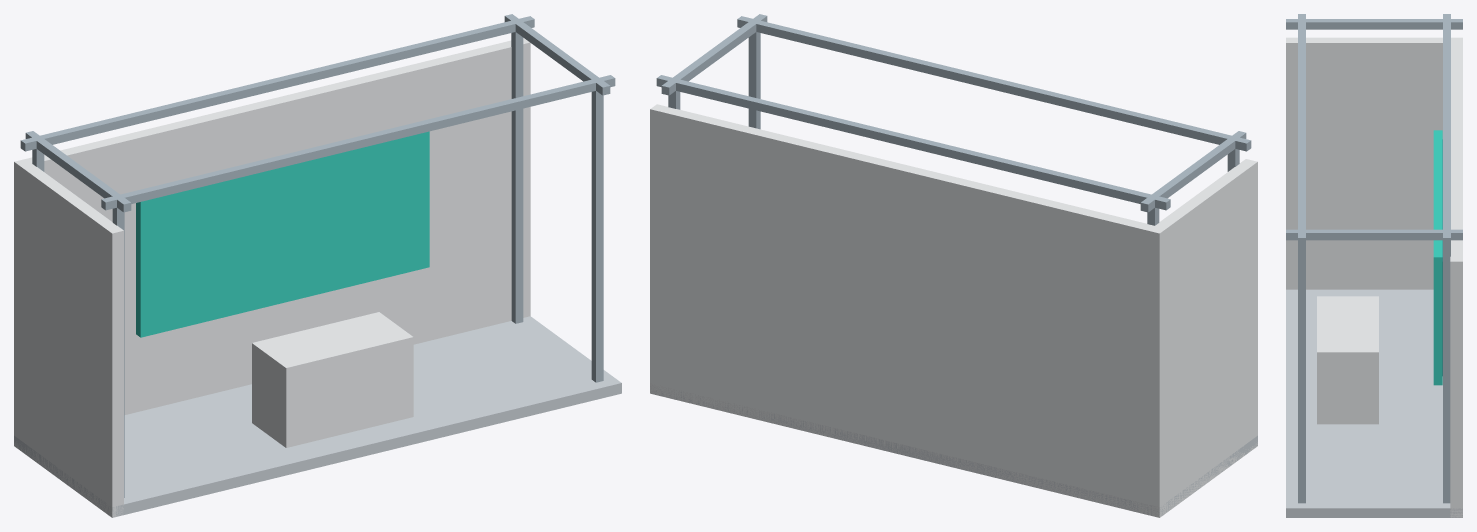
3 views of the same model, side by side, from view 1: azimuth 30°, elevation 25°; view 2: azimuth 150°, elevation 25°; view 3: azimuth 270°, elevation 25° (orthographic). The views are drawn at different scales.
Parts seen in each view (by area): view 1: Exhibition Booth Concept; view 2: Exhibition Booth Concept; view 3: Exhibition Booth Concept.
Boxes of the visible parts, x1,y1,x2,y2 form: Exhibition Booth Concept: (14, 14, 621, 517); Exhibition Booth Concept: (650, 14, 1257, 517); Exhibition Booth Concept: (1286, 14, 1462, 517).
Size of the model in its own units: 6 by 3.49 by 2.
